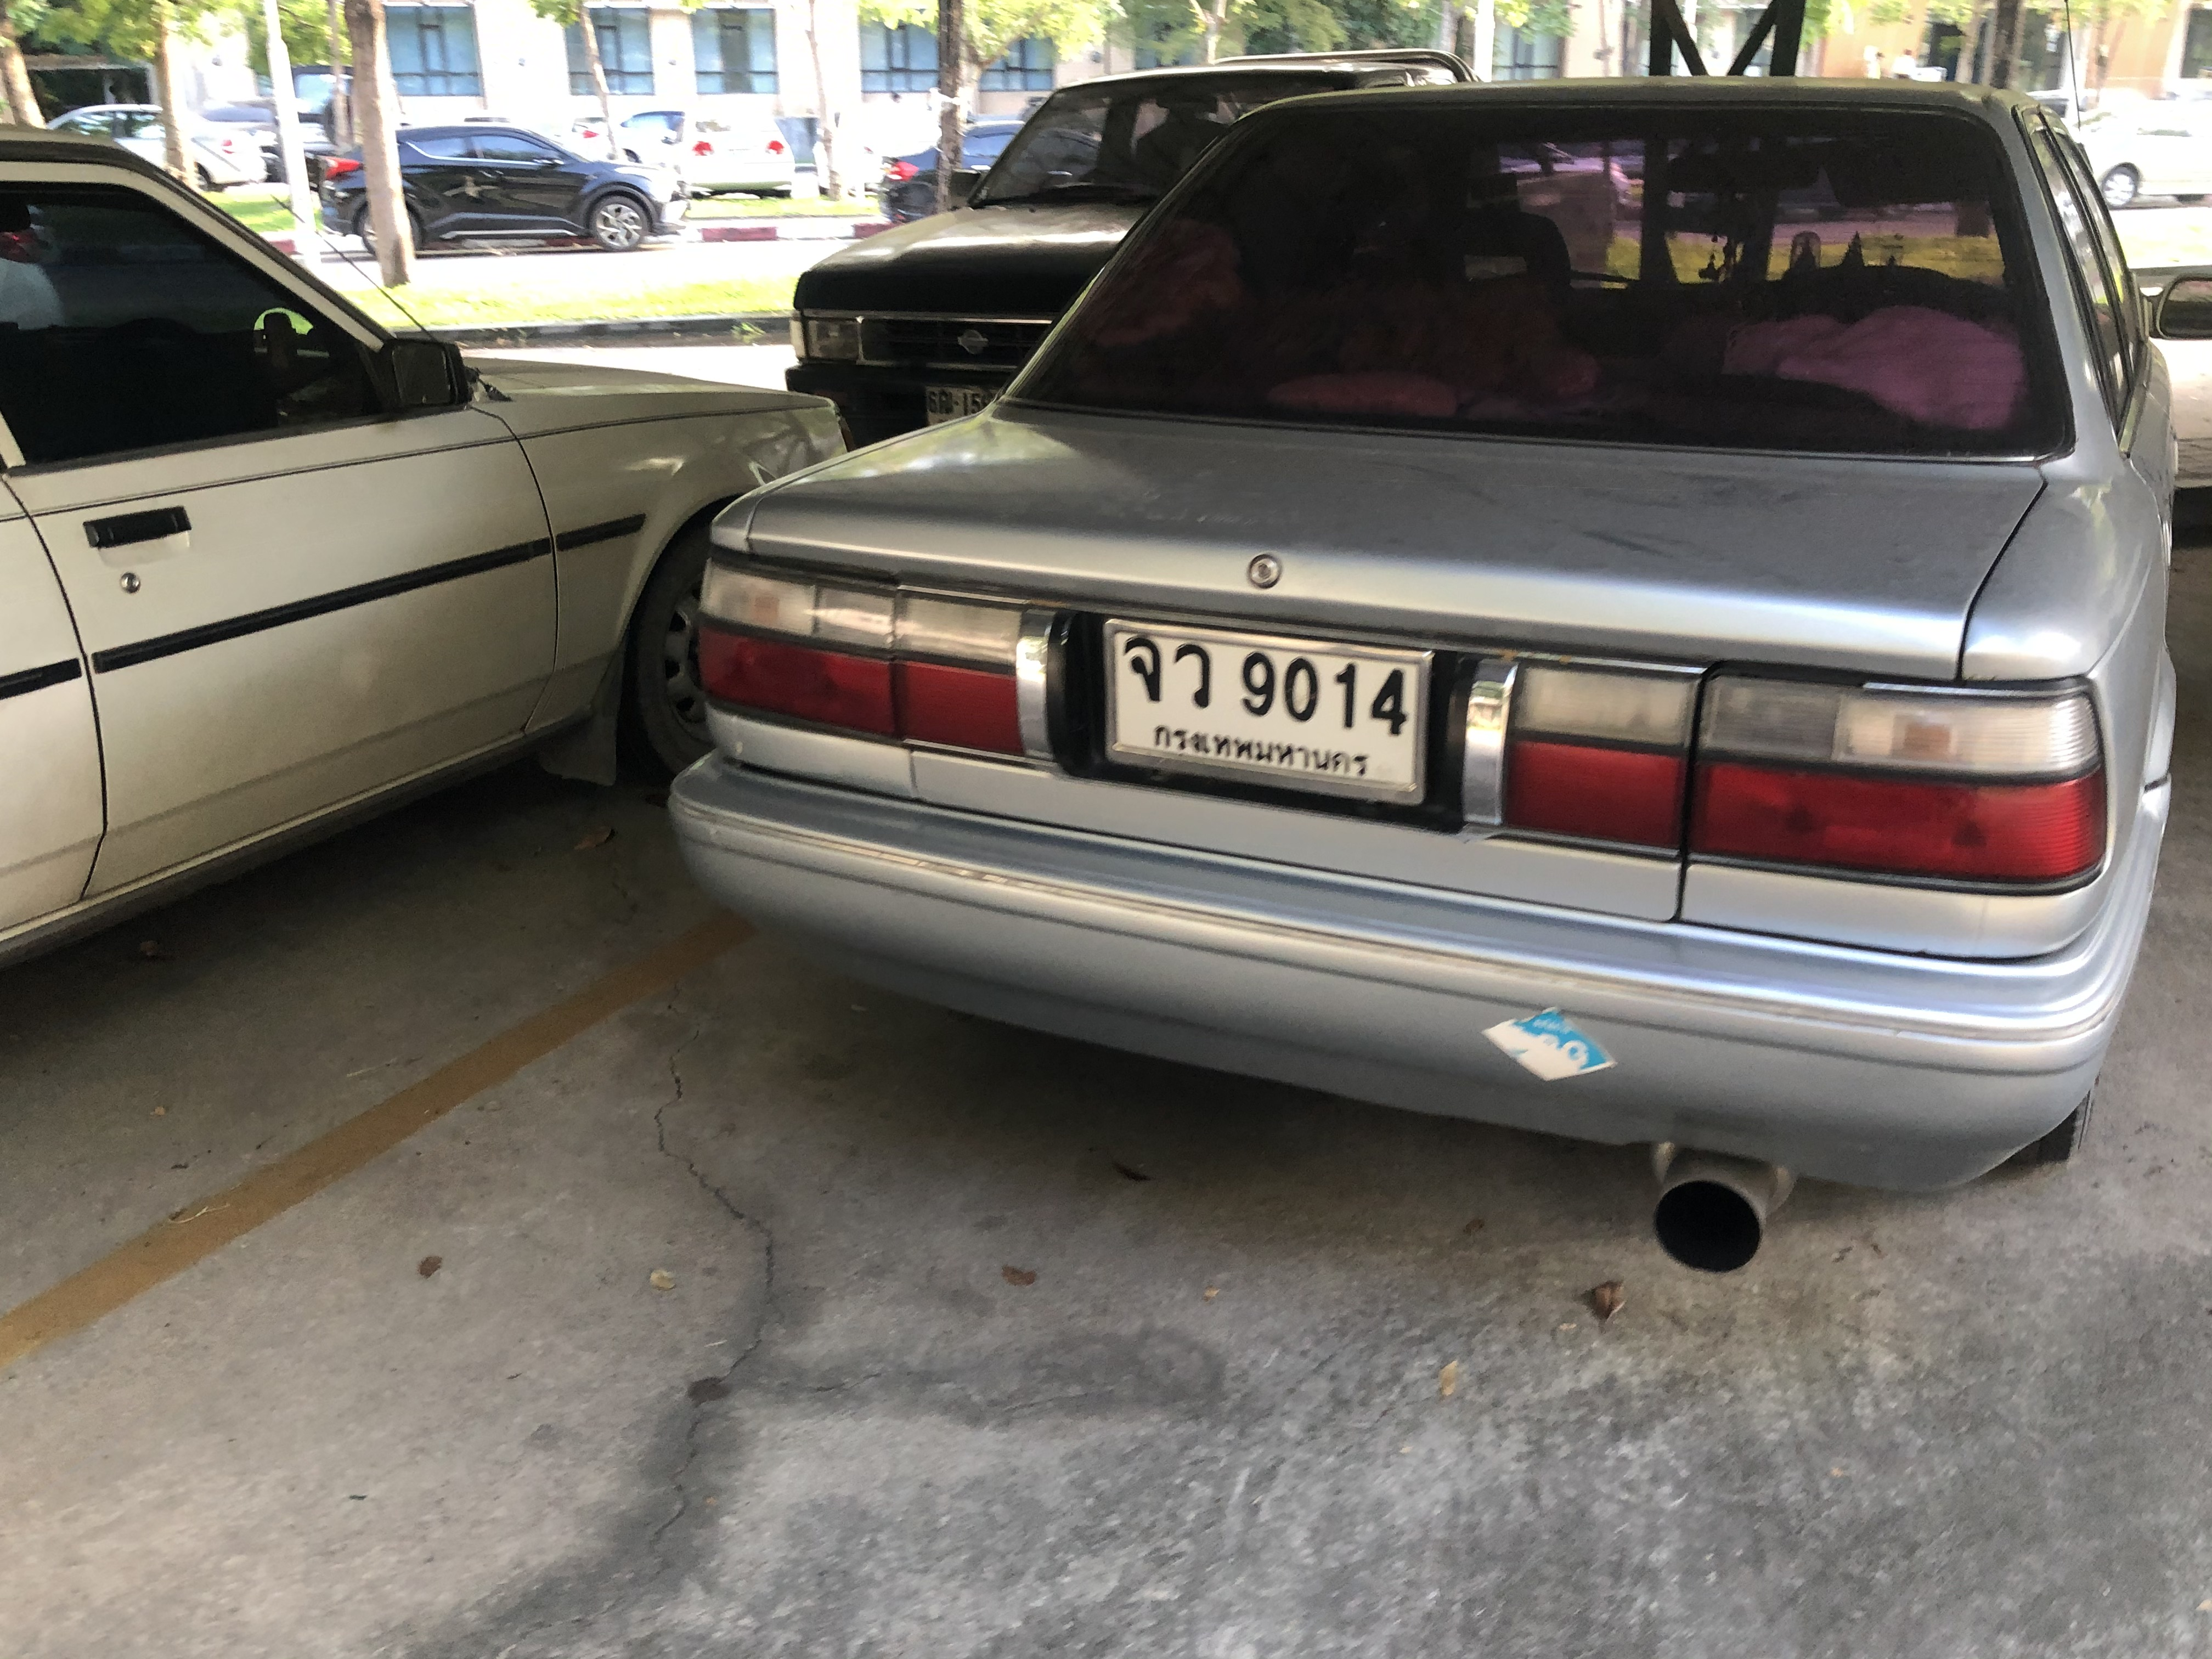in: (1122, 631, 1420, 793)
out: (1094, 612, 1442, 812)
